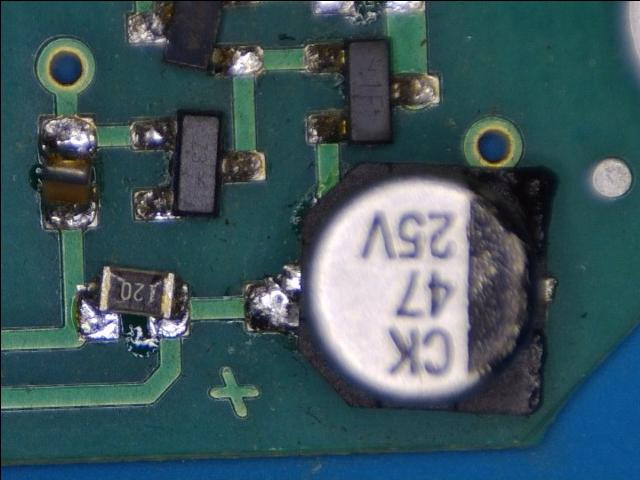Incorrect_installation: (245, 161, 556, 415), (126, 1, 263, 77), (76, 265, 189, 340), (39, 117, 98, 228)
